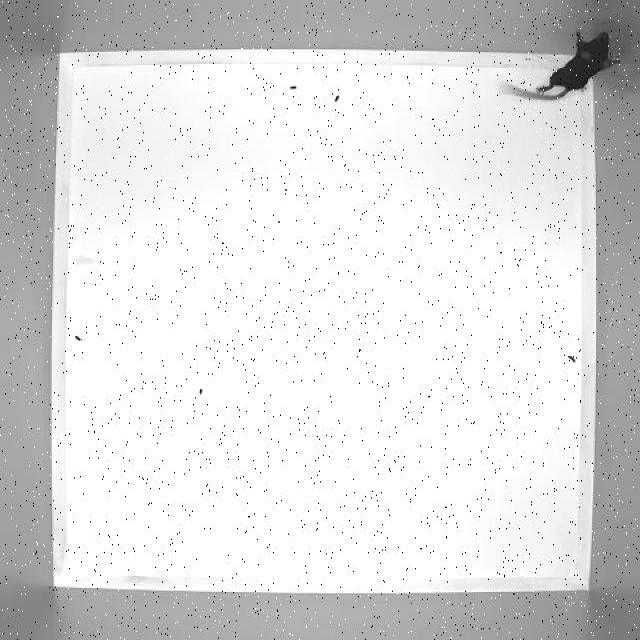rat: (505, 17, 627, 108)
